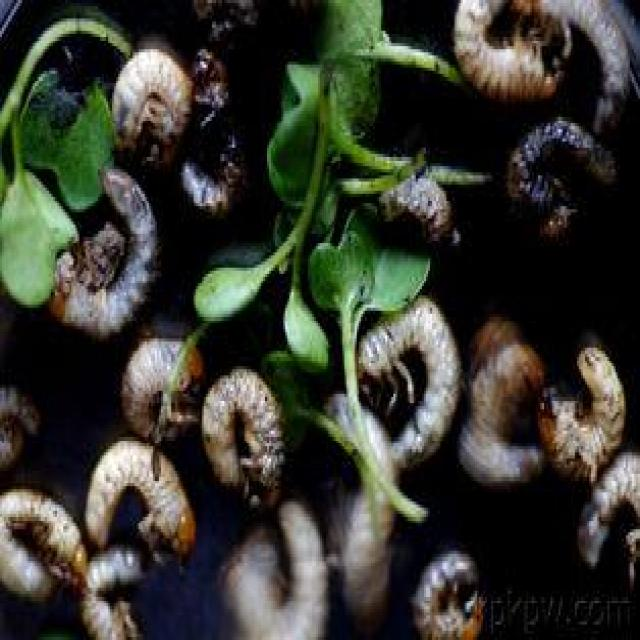Grub-Adult-: (361, 289, 463, 473), (54, 160, 159, 337), (218, 493, 330, 637), (80, 438, 207, 564), (533, 337, 627, 483), (202, 368, 296, 510), (106, 39, 200, 162), (116, 328, 204, 449)
